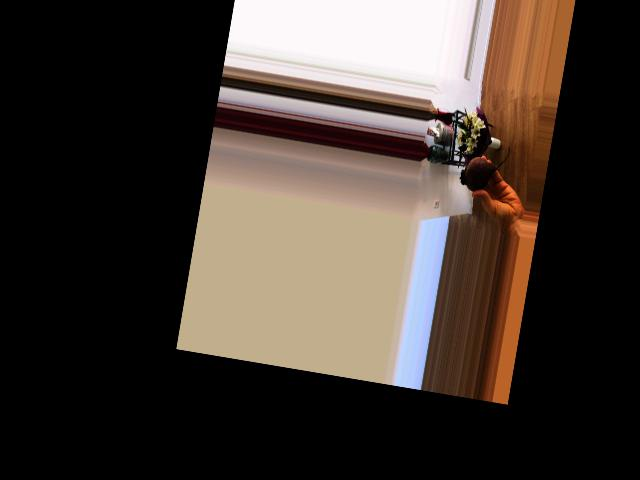beet: (458, 138, 510, 195)
